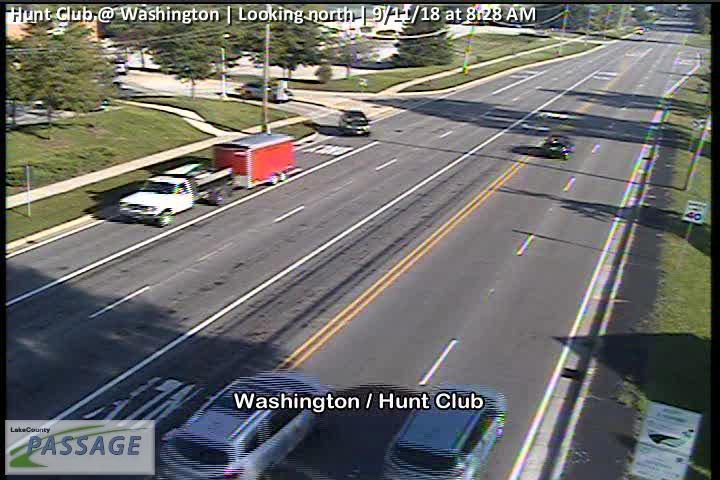Sedan: (157, 370, 336, 480), (378, 382, 507, 480), (236, 82, 289, 102), (336, 110, 369, 134), (543, 135, 572, 157)
Truck: (117, 132, 301, 227)
